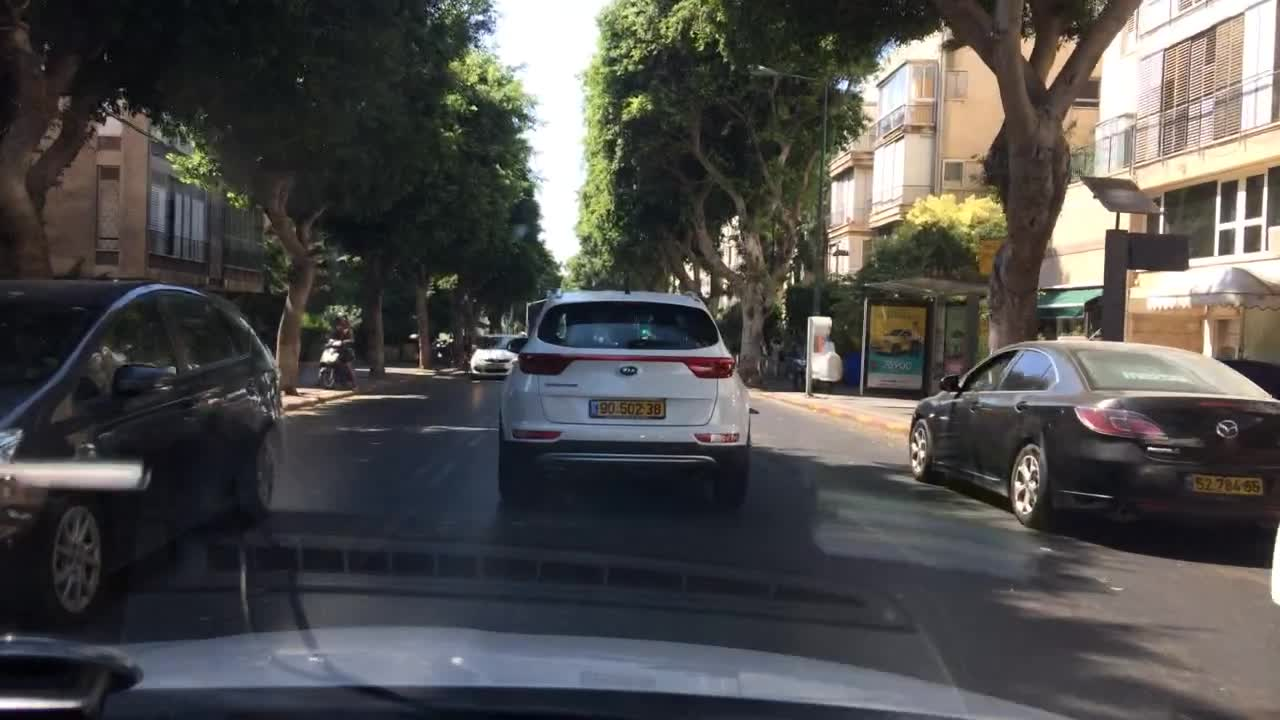car: (0, 276, 284, 631), (907, 336, 1278, 543), (497, 289, 750, 506), (467, 330, 524, 378), (427, 338, 453, 365)
motor: (316, 339, 356, 392)
rider: (322, 312, 358, 393)
